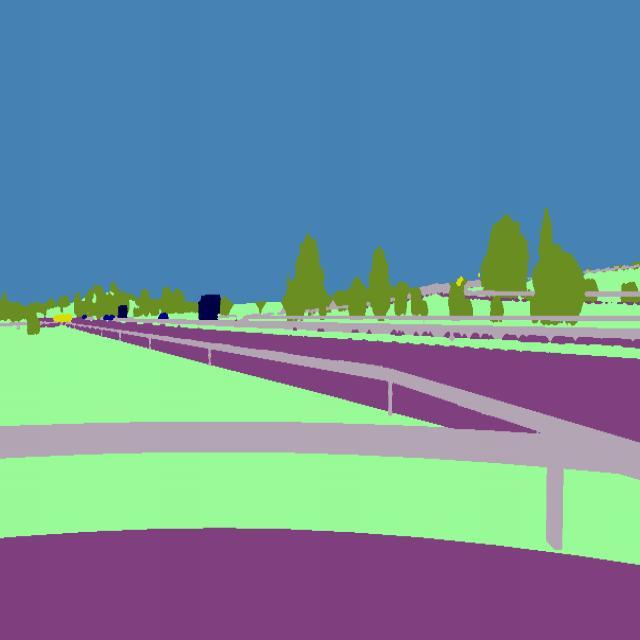safe: (195, 290, 223, 328), (158, 304, 173, 324), (118, 302, 130, 320)
